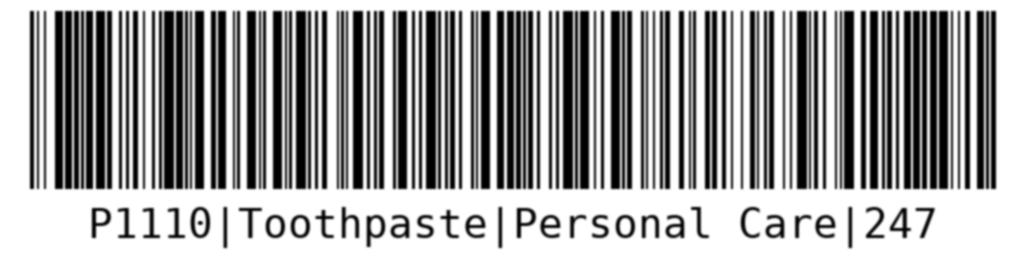milk: (23, 6, 1003, 262)
